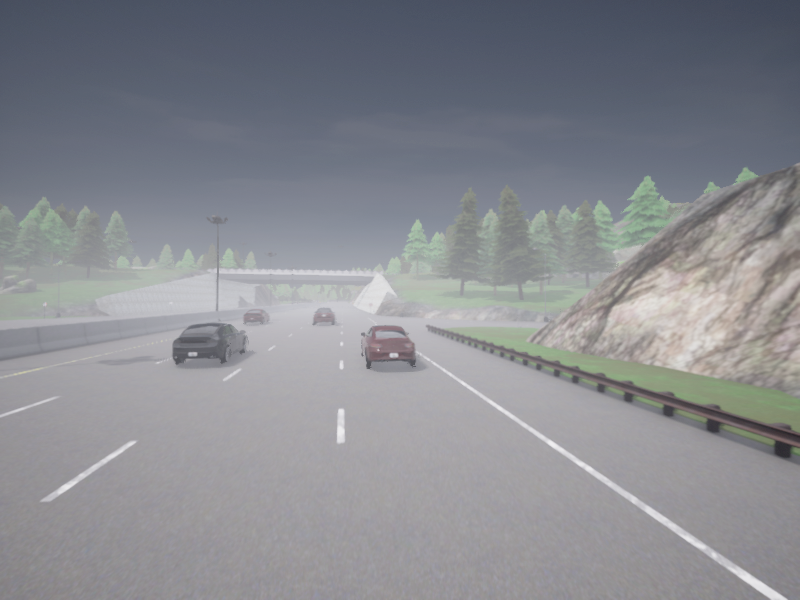vehicle: (172, 322, 247, 363), (361, 325, 415, 366), (243, 309, 269, 323), (313, 308, 335, 324)
